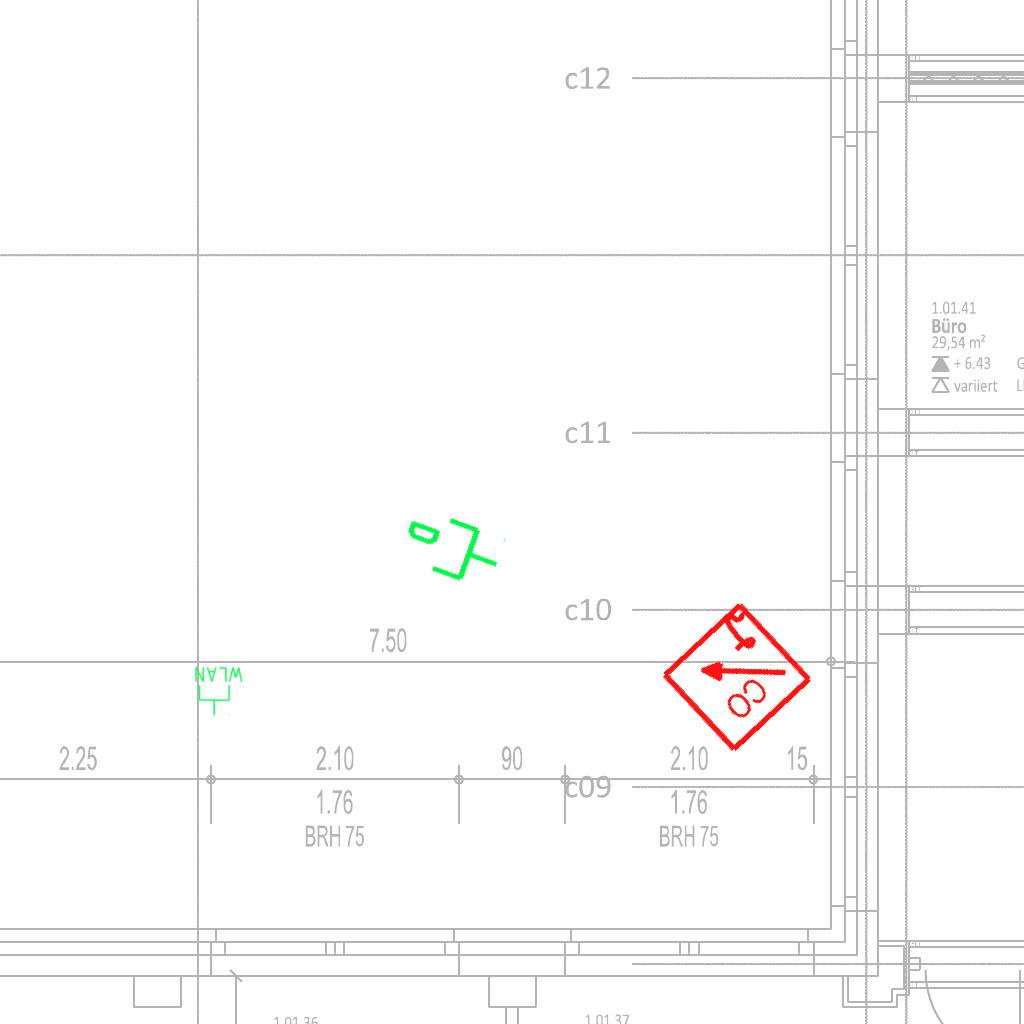Datenanschluss_einfach: (392, 500, 511, 600)
ROA_Rauchmelder_optisch_mit_Signalgeber_(Sockelsirene): (655, 596, 816, 757)
WLAN: (193, 665, 245, 717)
